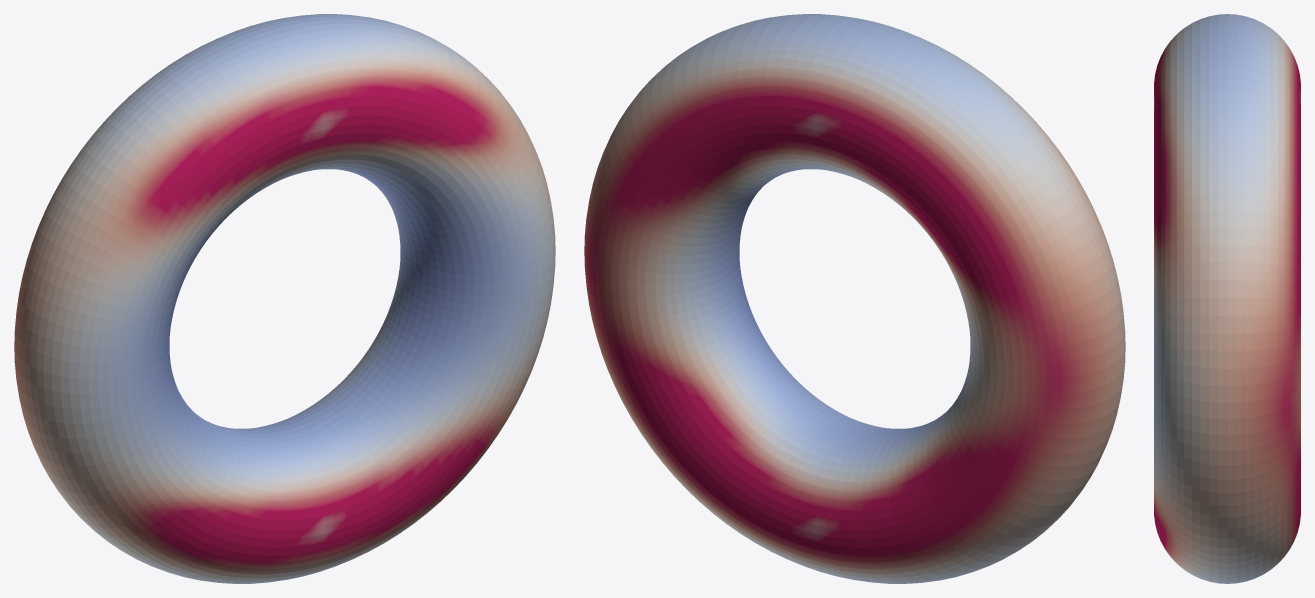
3 renders of one model, left to right at view 1: azimuth 30°, elevation 25°; view 2: azimuth 150°, elevation 25°; view 3: azimuth 270°, elevation 25°, orthographic. The views are drawn at different scales.
Parts seen in each view (by area): view 1: world; view 2: world; view 3: world.
Part boxes in pixels (box(x1,y1,x2,y2)): world: box(14, 14, 555, 583); world: box(584, 14, 1125, 583); world: box(1154, 14, 1300, 583).
Size of the model in its own units: 24.27 by 24.27 by 6.25.
